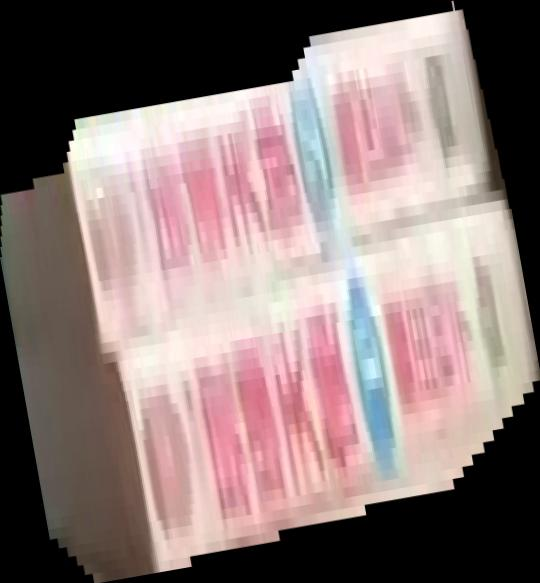flat: (1, 1, 540, 583)
